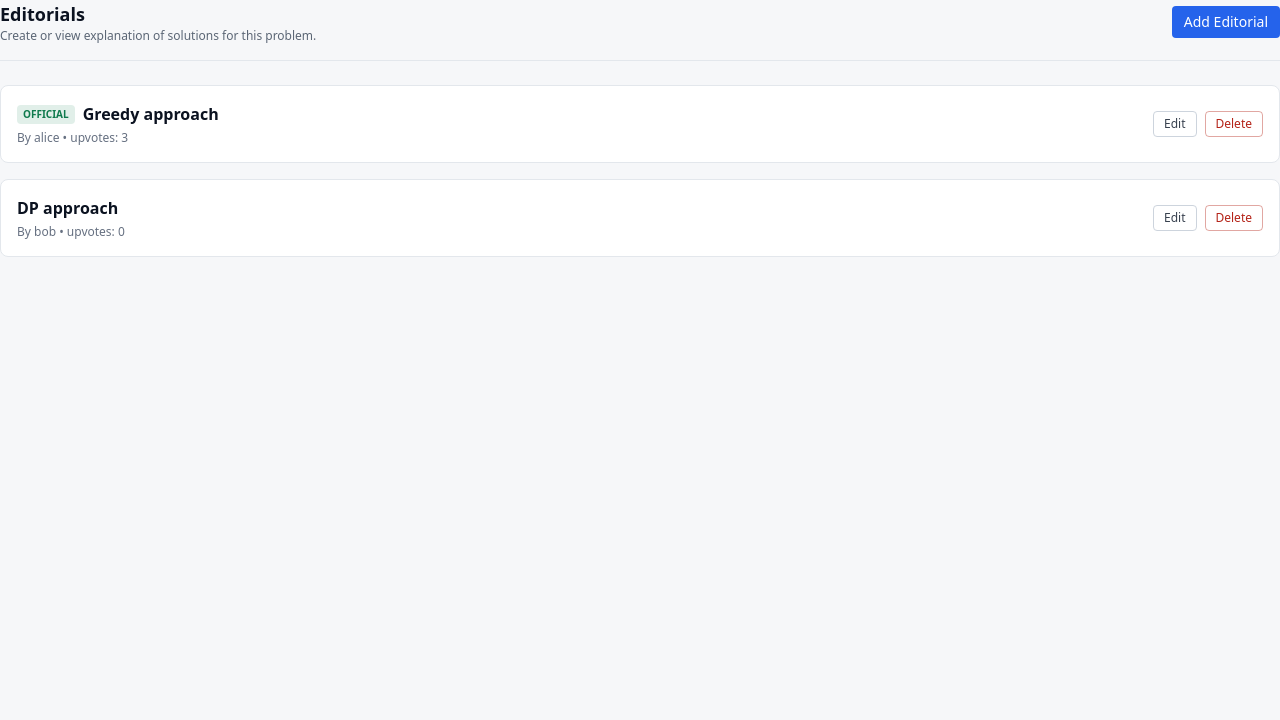
Scenario: a failed delete reports it instead of dropping the row
This screenshot has width=1280, height=720.
Check: the heading "Greedy approach" is shown, box [83, 102, 219, 126]
Step 1. Click the button "Delete" in the row of "Greedy approach" → (1234,124), box [1204, 111, 1263, 137]
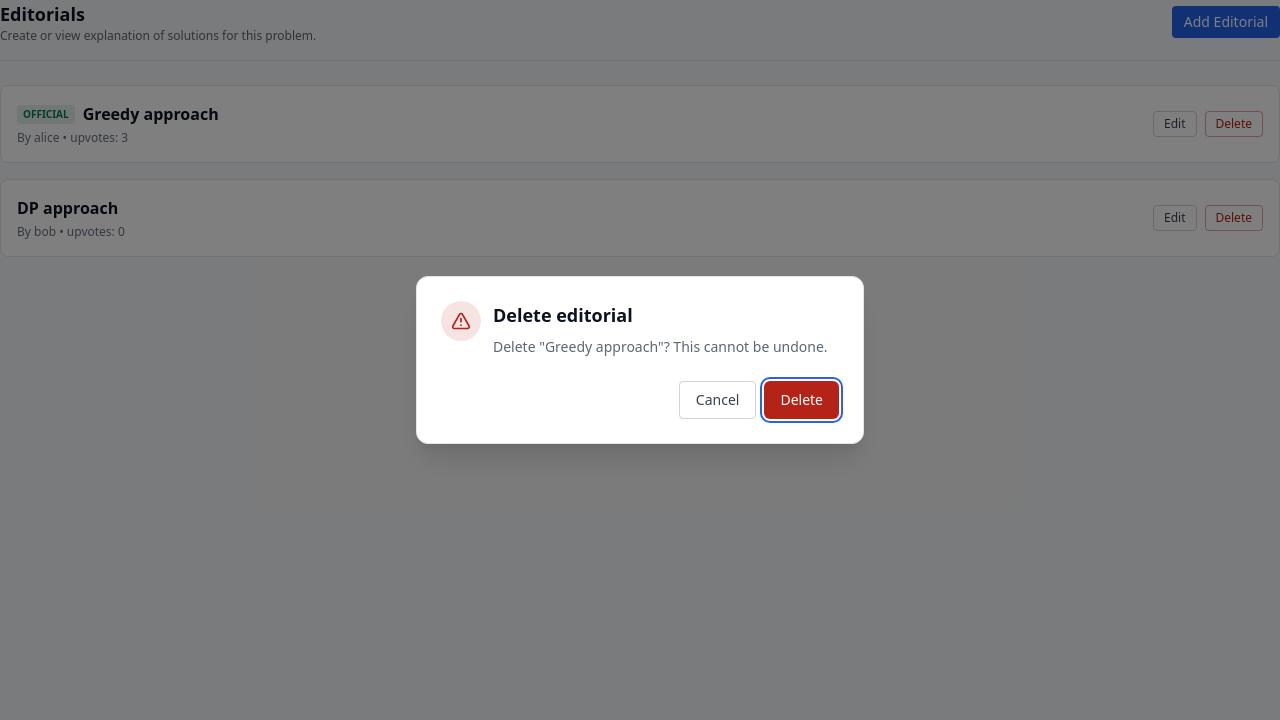
Step 2. Click the button "Delete" → (802,400), box [764, 381, 839, 419]
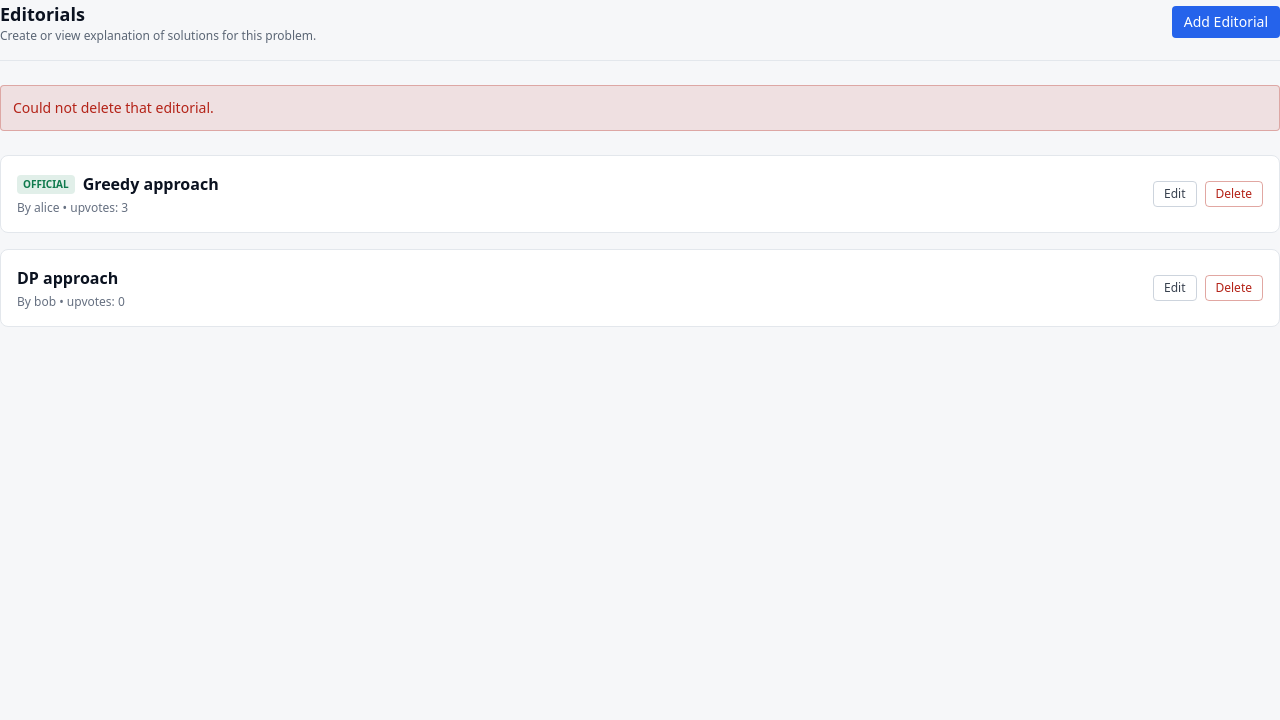
Check: the heading "Greedy approach" is shown, box [83, 172, 219, 196]
Check: the text "Could not delete that editorial." is shown, box [0, 85, 1279, 131]
